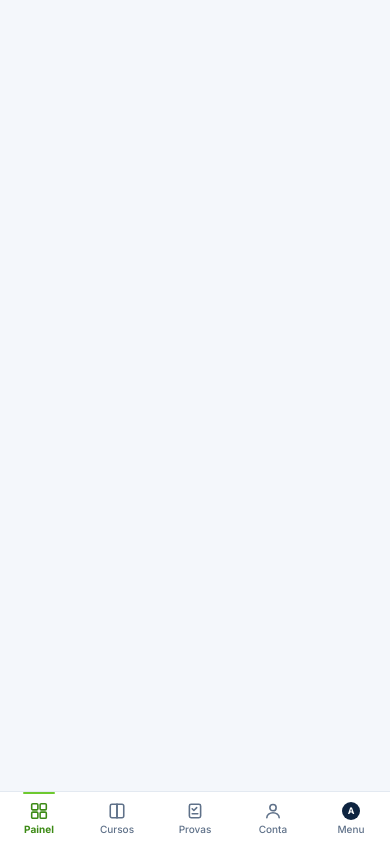
gaveta do menu › oferece sair
Click the text "Menu" at [351, 829], box [338,824,364,834]
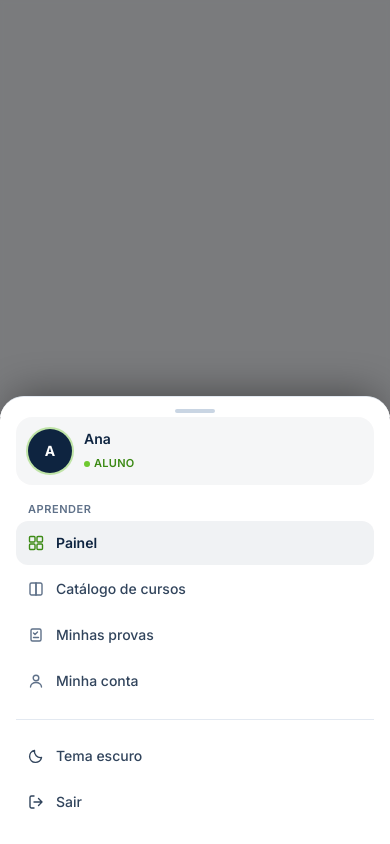
Result: the button "Sair" is shown at [16,780,374,824]
